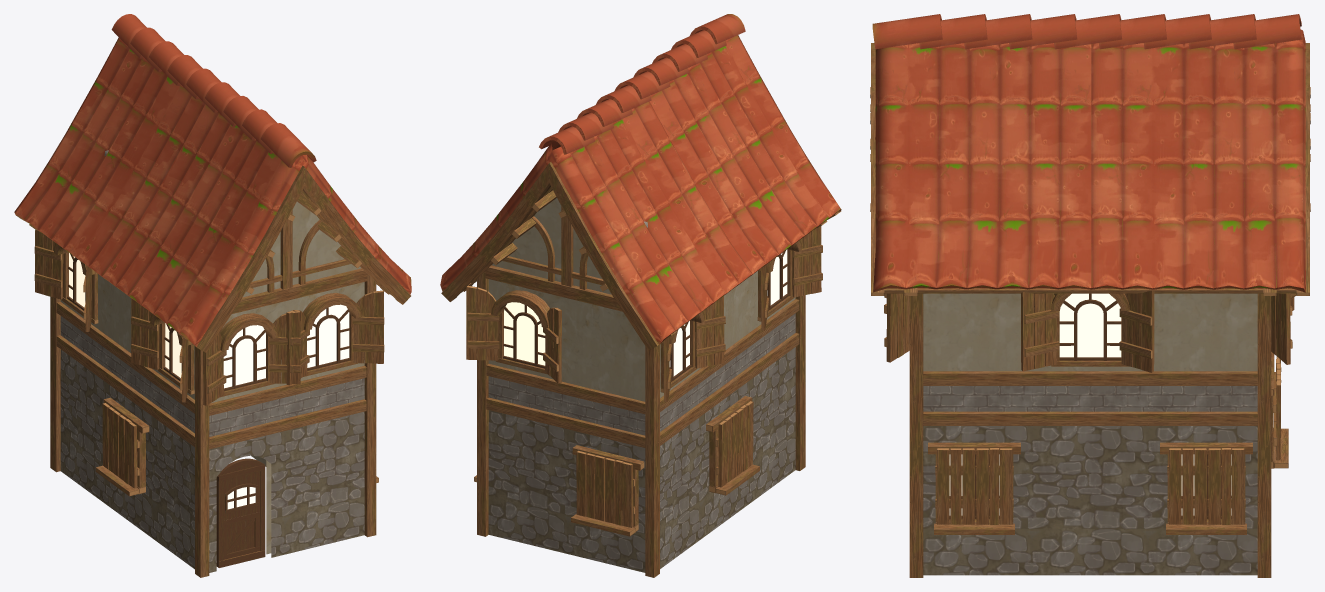
Rendered from kit-house-round.glb.
3 renders of one model, left to right at view 1: azimuth 30°, elevation 25°; view 2: azimuth 150°, elevation 25°; view 3: azimuth 270°, elevation 25°, orthographic. The views are drawn at different scales.
Parts seen in each view (by area): view 1: house; view 2: house; view 3: house.
Boxes of the visible parts, box(x1,y1,x2,y2) form: house: box(14, 14, 411, 577); house: box(440, 14, 841, 577); house: box(870, 14, 1310, 577).
Bounding box in the file's own units: 5.51 × 9.72 × 7.59.
7 materials, 6 textured.
